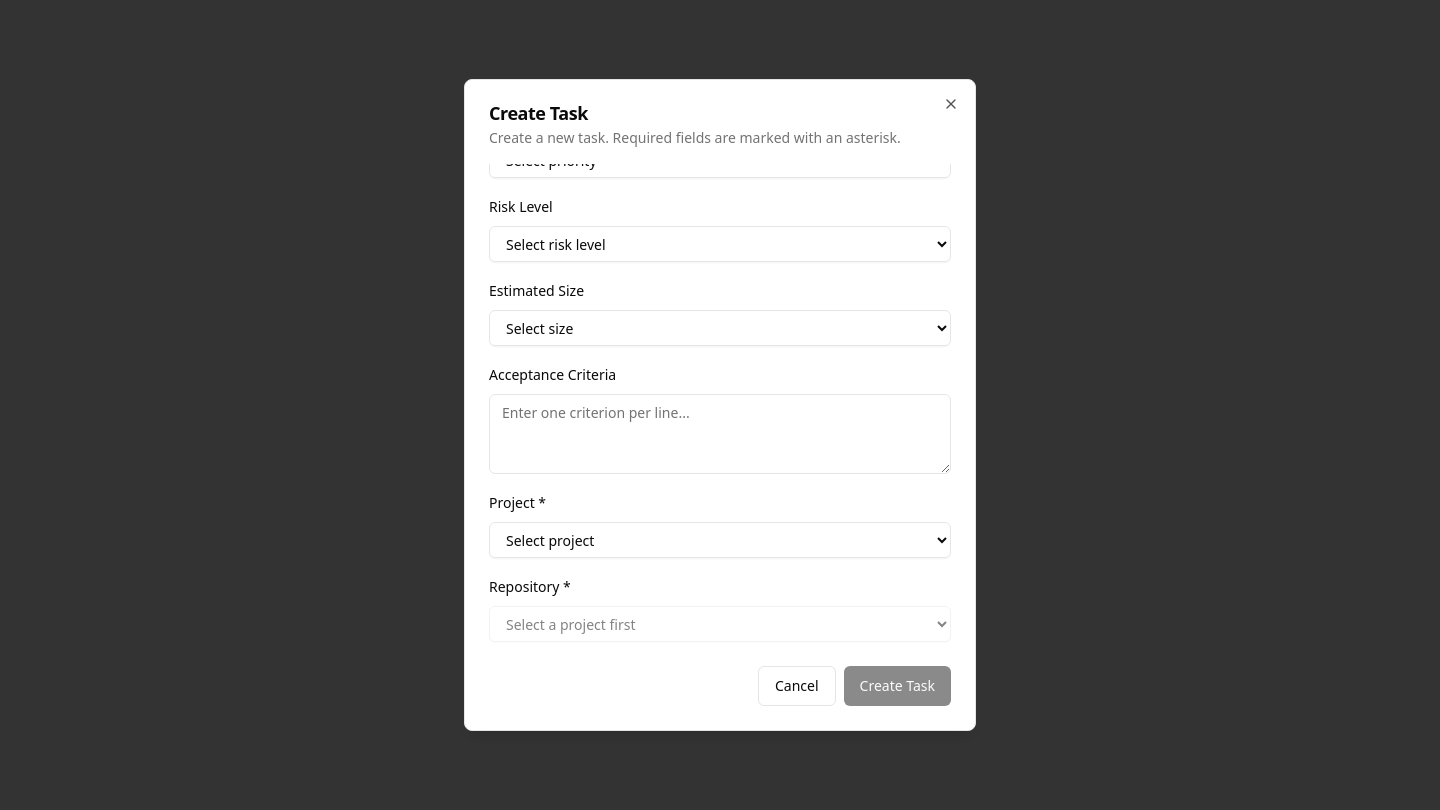
CreateTaskDialog › enables repository select after project is chosen
(page scrolled)
Select "Factory Core" in the dropdown with test id "create-task-project" at coordinates (720, 540), box [489,522,951,558]
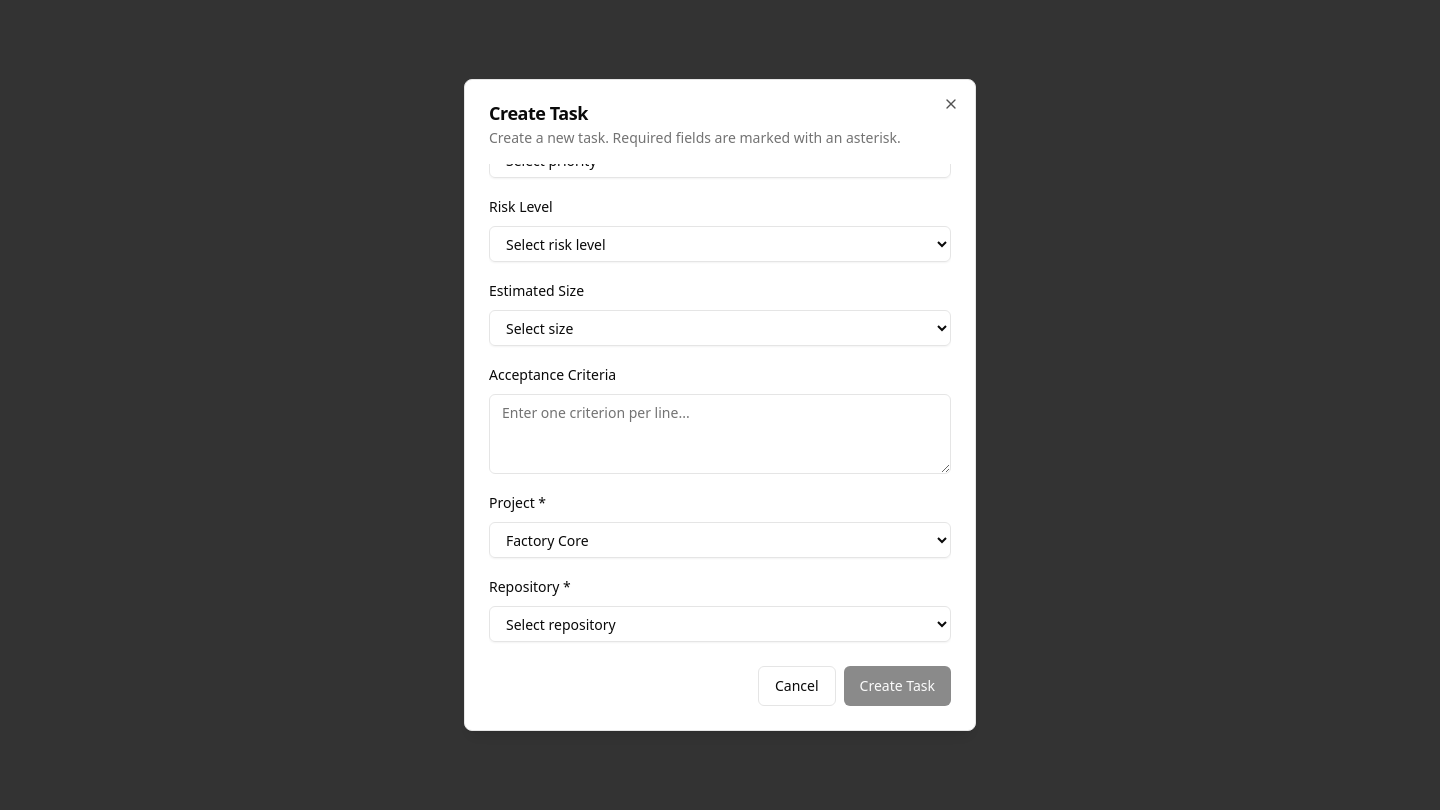
Check: the dropdown with test id "create-task-repository" is enabled, box [489,606,951,642]
